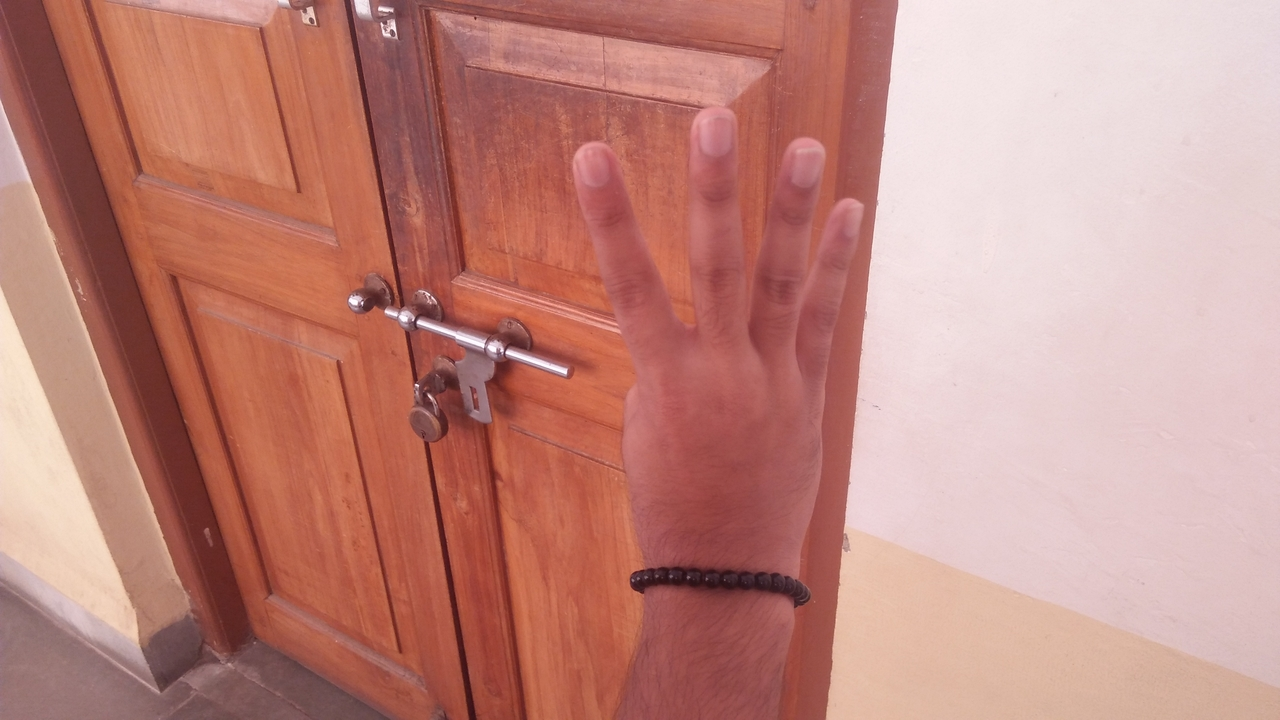fingertip: (562, 138, 630, 200), (768, 134, 836, 194), (682, 104, 746, 166), (820, 190, 872, 240)
